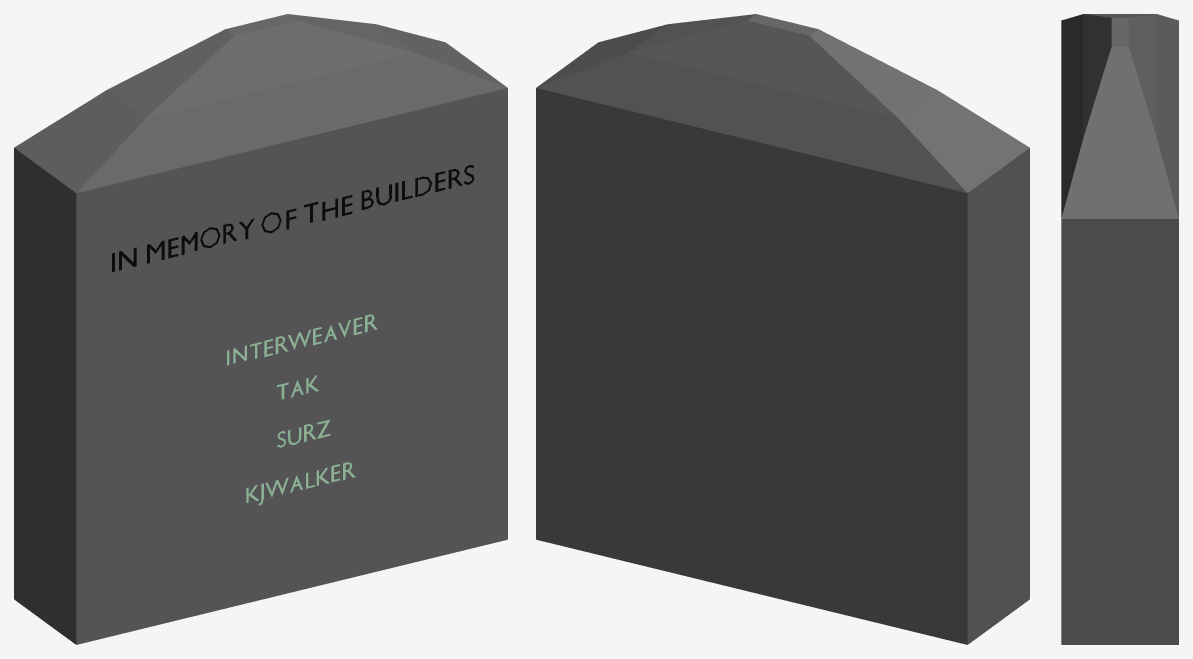
File: memorialStone.gltf
3 renders of one model, left to right at view 1: azimuth 30°, elevation 25°; view 2: azimuth 150°, elevation 25°; view 3: azimuth 270°, elevation 25°, orthographic. The views are drawn at different scales.
Visible parts, largest first — view 1: Cube; view 2: Cube; view 3: Cube.
Boxes of the visible parts, x1,y1,x2,y2 form: Cube: [14, 14, 507, 644]; Cube: [536, 14, 1029, 644]; Cube: [1061, 14, 1178, 644].
Size of what is drawn, in the model's own units: 2 by 2.41 by 0.5137.
Materials: 1 (1 with a texture image).
